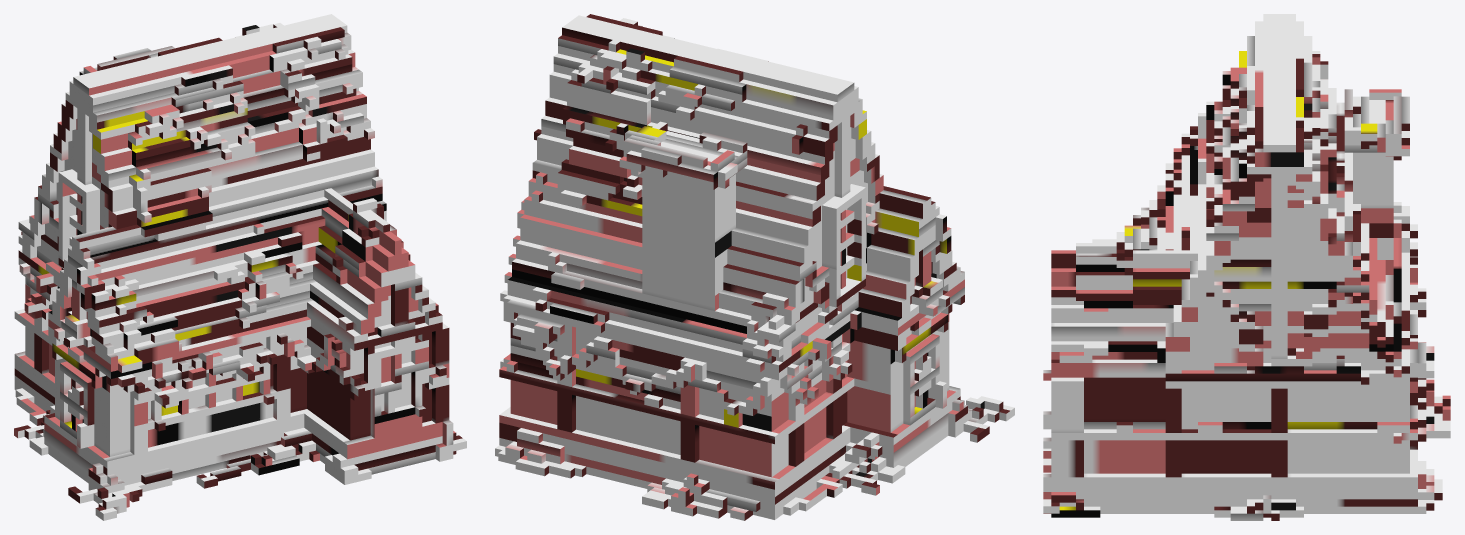
The model's file is SantaHouse 1.fbx.
3 renders of one model, left to right at view 1: azimuth 30°, elevation 25°; view 2: azimuth 150°, elevation 25°; view 3: azimuth 270°, elevation 25°, orthographic. The views are drawn at different scales.
Visible parts, largest first — view 1: Matrix; view 2: Matrix; view 3: Matrix.
Boxes of the visible parts, x1,y1,x2,y2 form: Matrix: (14,14,466,520); Matrix: (495,14,1014,520); Matrix: (1043,14,1450,520).
Size of the model in its own units: 50 by 50 by 50.
1 material, 1 textured.
